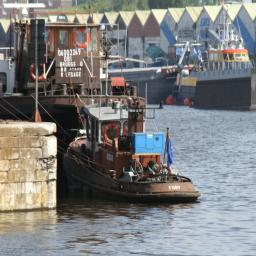tugboat: (61, 99, 205, 208)
